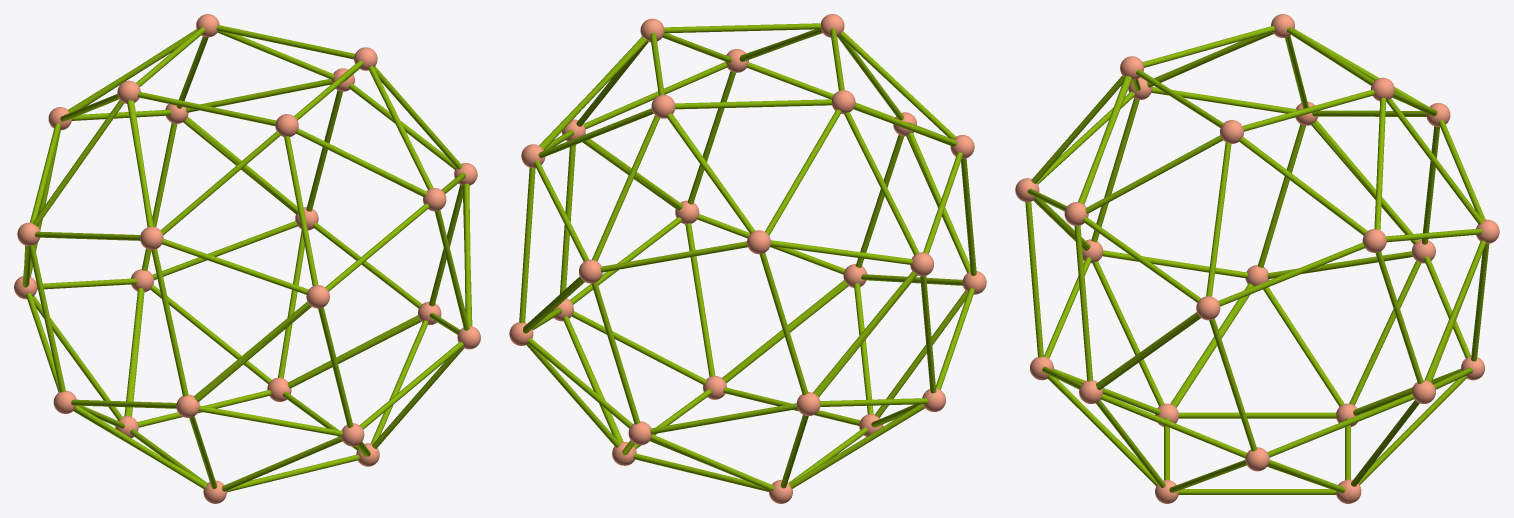
Rendered from snubcube.glb.
The picture shows the model from 3 angles, left to right: view 1: azimuth 30°, elevation 25°; view 2: azimuth 150°, elevation 25°; view 3: azimuth 270°, elevation 25°; orthographic projection. The views are drawn at different scales.
Size of the model in its own units: 8.03 by 7.26 by 8.03.
